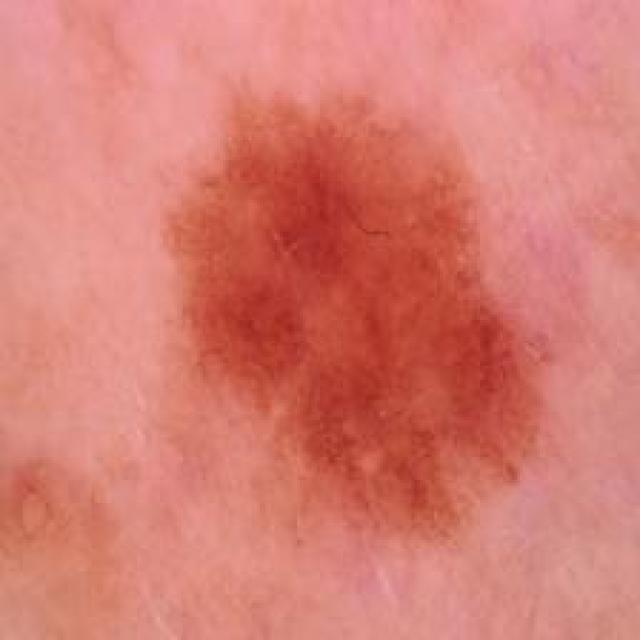Cancer: (160, 71, 554, 548)
